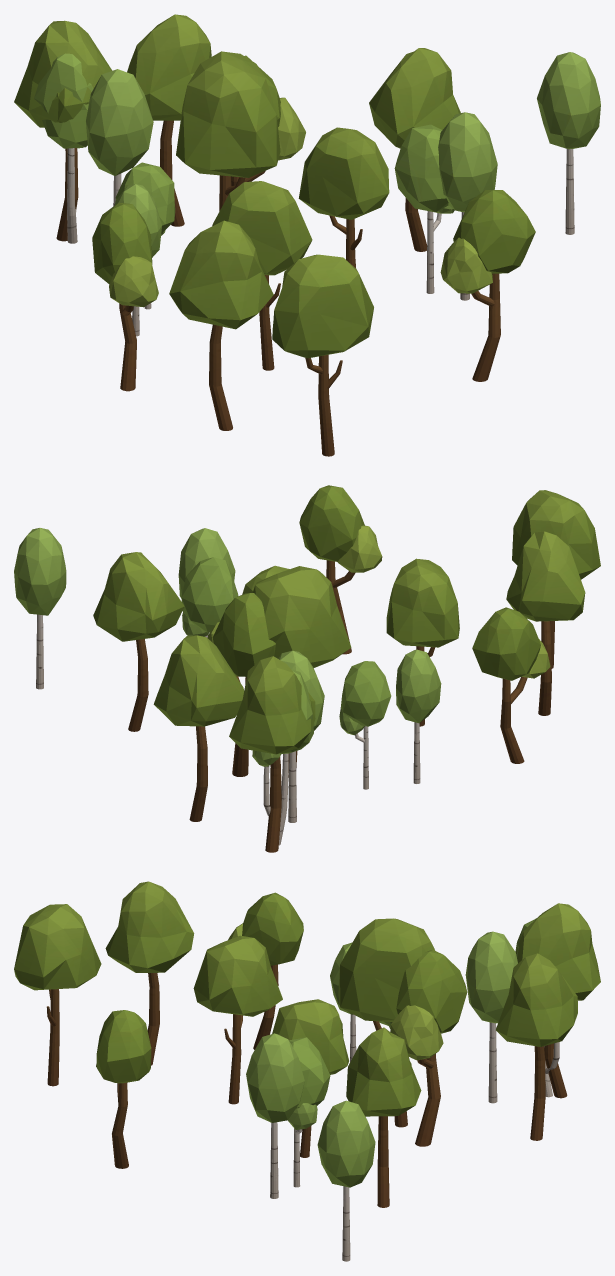
File: Trees12.gltf
3 renders of one model, top to bottom at view 1: azimuth 30°, elevation 25°; view 2: azimuth 150°, elevation 25°; view 3: azimuth 270°, elevation 25°, orthographic. The views are drawn at different scales.
Visible parts, largest first — view 1: Beechtree3 - copy.029, Beechtree3 - copy.037, Beechtree1 - copy.017, Beechtree2 - copy.030, Beechtree3 - copy.023, Beechtree1 - copy.052, Beechtree1 - copy.050, Beechtree2 - copy.021, Beechtree3 - copy.028, BirchTree1 - copy.050, BirchTree1 - copy.052, Beechtree1 - copy.021 (+6 smaller); view 2: Beechtree1 - copy.052, Beechtree1 - copy.021, Beechtree3 - copy.029, Beechtree1 - copy.050, Beechtree1 - copy.017, Beechtree2 - copy.030, Beechtree3 - copy.028, Beechtree2 - copy.021, Beechtree3 - copy.037, BirchTree1 - copy.052, Beechtree2 - copy.020, BirchTree3 - copy.032 (+5 smaller); view 3: Beechtree2 - copy.020, Beechtree3 - copy.037, Beechtree3 - copy.029, Beechtree1 - copy.052, Beechtree1 - copy.017, Beechtree3 - copy.028, Beechtree1 - copy.050, Beechtree1 - copy.021, BirchTree1 - copy.004, Beechtree2 - copy.030, BirchTree1 - copy.052, BirchTree1 - copy.050 (+4 smaller).
Part boxes in pixels (bbox=[...]): Beechtree3 - copy.029: bbox=[176, 51, 280, 211]; Beechtree3 - copy.037: bbox=[272, 254, 373, 456]; Beechtree1 - copy.017: bbox=[169, 220, 273, 430]; Beechtree2 - copy.030: bbox=[440, 190, 535, 381]; Beechtree3 - copy.023: bbox=[298, 127, 389, 267]; Beechtree1 - copy.052: bbox=[127, 14, 211, 226]; Beechtree1 - copy.050: bbox=[369, 48, 460, 251]; Beechtree2 - copy.021: bbox=[92, 202, 158, 391]; Beechtree3 - copy.028: bbox=[212, 181, 312, 370]; BirchTree1 - copy.050: bbox=[86, 69, 153, 206]; BirchTree1 - copy.052: bbox=[537, 52, 600, 234]; Beechtree1 - copy.021: bbox=[14, 20, 112, 241]; Beechtree1 - copy.052: bbox=[153, 635, 243, 821]; Beechtree1 - copy.021: bbox=[229, 656, 315, 852]; Beechtree3 - copy.029: bbox=[252, 566, 351, 777]; Beechtree1 - copy.050: bbox=[93, 552, 184, 731]; Beechtree1 - copy.017: bbox=[506, 531, 585, 715]; Beechtree2 - copy.030: bbox=[299, 485, 382, 654]; Beechtree3 - copy.028: bbox=[386, 558, 459, 726]; Beechtree2 - copy.021: bbox=[472, 607, 550, 763]; Beechtree3 - copy.037: bbox=[512, 490, 600, 668]; BirchTree1 - copy.052: bbox=[14, 528, 66, 689]; Beechtree2 - copy.020: bbox=[207, 593, 275, 776]; BirchTree3 - copy.032: bbox=[339, 661, 391, 789]; Beechtree2 - copy.020: bbox=[390, 950, 467, 1146]; Beechtree3 - copy.037: bbox=[14, 904, 101, 1086]; Beechtree3 - copy.029: bbox=[338, 918, 434, 1127]; Beechtree1 - copy.052: bbox=[496, 953, 577, 1140]; Beechtree1 - copy.017: bbox=[105, 881, 194, 1065]; Beechtree3 - copy.028: bbox=[193, 935, 282, 1104]; Beechtree1 - copy.050: bbox=[346, 1027, 421, 1207]; Beechtree1 - copy.021: bbox=[516, 903, 600, 1098]; BirchTree1 - copy.004: bbox=[246, 1033, 304, 1198]; Beechtree2 - copy.030: bbox=[96, 1010, 151, 1168]; BirchTree1 - copy.052: bbox=[317, 1100, 375, 1261]; BirchTree1 - copy.050: bbox=[465, 931, 517, 1103].
Bounding box in the file's own units: 26.99 × 11.01 × 28.73.
Materials: 6 (6 with a texture image).
